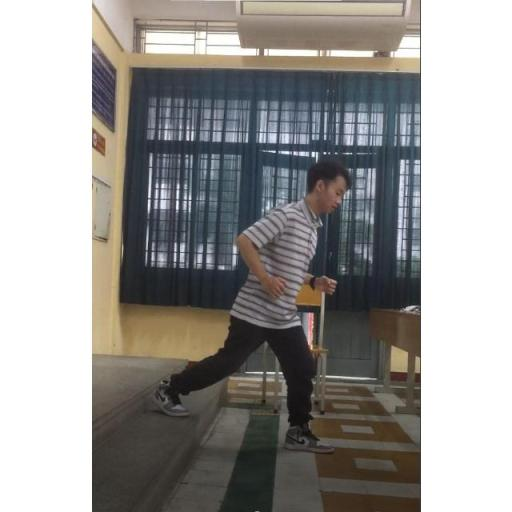Running: (148, 154, 345, 458)
